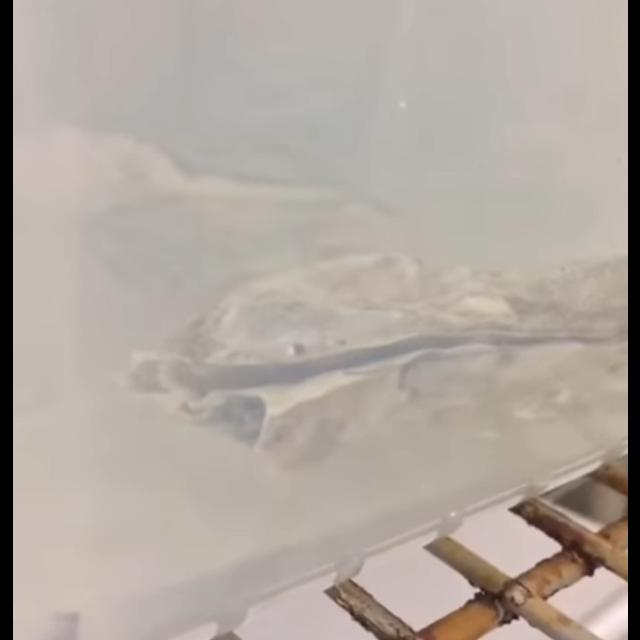Oyster-Closed: (78, 119, 352, 229)
Oyster-Open: (114, 254, 628, 476)
